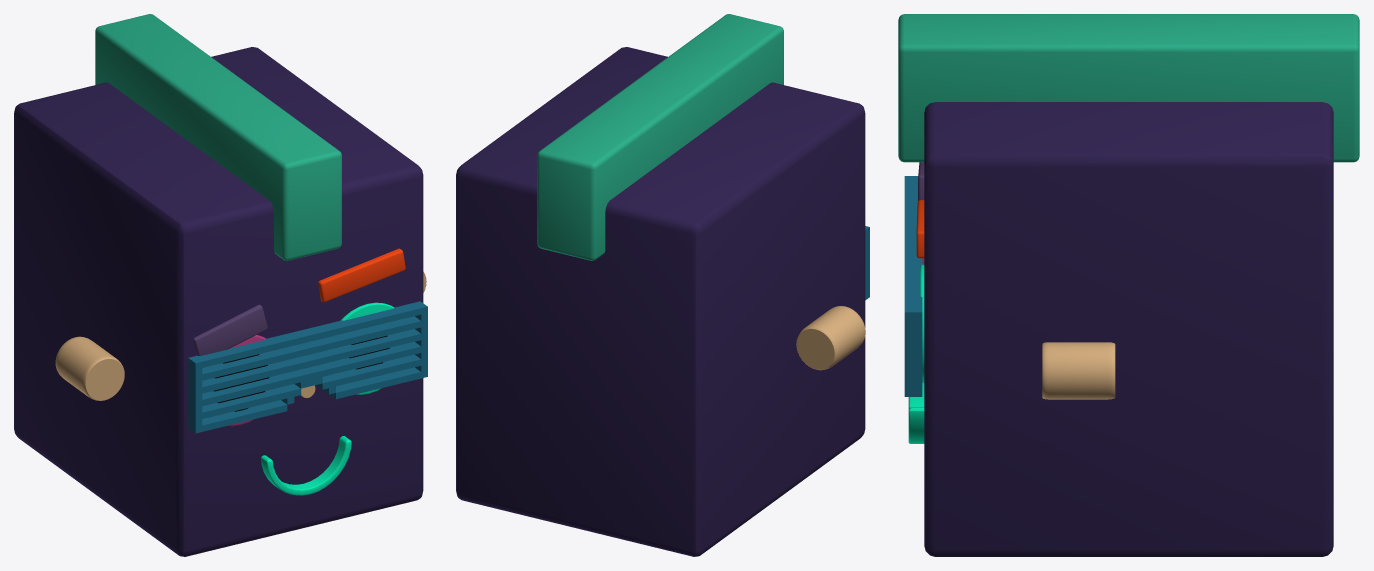
Rendered from sail-o-bots#559.glb.
3 views of the same model, side by side, from view 1: azimuth 30°, elevation 25°; view 2: azimuth 150°, elevation 25°; view 3: azimuth 270°, elevation 25° (orthographic). The views are drawn at different scales.
Parts seen in each view (by area): view 1: Sail-b-bots #559, Mohawk B, Glasses, Arm R, Eyebrow L, Eyebrow R, Mouth Smile, Eye L; view 2: Sail-b-bots #559, Mohawk B, Arm R; view 3: Sail-b-bots #559, Mohawk B, Arm L, Glasses, Mouth Smile.
Part boxes in pixels (x1,y1,x2,y2): Sail-b-bots #559: (14,47,423,556); Mohawk B: (95,14,341,260); Glasses: (188,301,427,433); Arm R: (55,336,124,400); Eyebrow L: (318,248,405,302); Eyebrow R: (193,304,267,355); Mouth Smile: (261,436,351,495); Eye L: (341,302,394,394); Sail-b-bots #559: (456,47,865,556); Mohawk B: (537,14,783,260); Arm R: (796,306,865,370); Sail-b-bots #559: (924,102,1333,556); Mohawk B: (898,14,1359,162); Arm L: (1042,342,1115,399); Glasses: (904,176,922,396); Mouth Smile: (908,383,924,443).
Bounding box in the file's own units: 2.94 × 3.12 × 2.84.
Materials: 10 (10 with a texture image).
